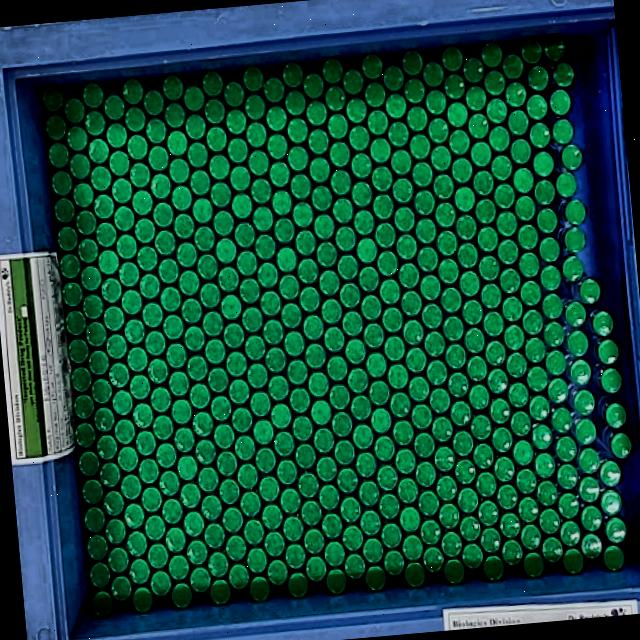vial: (360, 52, 384, 79), (578, 448, 602, 474), (398, 261, 422, 287), (599, 366, 622, 393), (373, 192, 395, 220), (344, 552, 366, 580), (568, 330, 590, 358), (533, 152, 556, 178), (580, 533, 603, 559), (611, 432, 634, 458), (575, 418, 598, 444), (196, 252, 218, 279), (580, 506, 602, 533), (350, 394, 372, 421), (389, 391, 411, 418), (592, 309, 614, 336), (44, 116, 68, 140), (564, 228, 588, 252), (479, 283, 502, 308), (270, 403, 293, 428), (328, 384, 351, 409), (308, 128, 330, 154), (383, 64, 405, 90), (526, 95, 548, 121), (433, 172, 455, 198), (64, 310, 86, 336), (128, 374, 150, 400), (286, 572, 308, 598), (522, 552, 544, 578), (578, 476, 600, 502), (557, 492, 579, 518), (534, 452, 556, 478), (606, 402, 628, 428), (532, 424, 554, 450), (528, 396, 550, 422), (330, 412, 352, 438), (484, 340, 506, 366), (228, 136, 249, 163), (351, 153, 372, 180), (482, 554, 503, 581), (516, 468, 537, 495), (552, 406, 573, 433), (314, 428, 334, 456), (459, 516, 482, 540), (605, 518, 628, 542), (572, 391, 596, 414), (294, 230, 316, 255), (530, 123, 552, 148), (552, 118, 574, 143), (186, 355, 208, 380), (158, 471, 180, 496), (603, 546, 625, 571), (264, 346, 286, 371), (544, 350, 566, 375), (333, 198, 354, 224), (408, 132, 429, 158), (459, 270, 480, 296), (202, 310, 223, 336), (276, 459, 297, 485), (382, 550, 403, 576), (358, 480, 379, 506), (495, 457, 516, 483), (539, 508, 560, 534), (563, 548, 584, 574), (555, 436, 576, 462), (452, 430, 473, 456), (356, 452, 377, 478), (357, 236, 378, 262), (357, 266, 378, 292), (366, 352, 387, 378), (506, 352, 527, 378), (352, 180, 372, 207), (330, 140, 350, 167), (504, 323, 524, 350), (122, 80, 144, 104), (168, 158, 190, 182), (266, 106, 288, 130), (554, 62, 576, 86), (538, 238, 560, 262), (518, 253, 540, 277), (144, 515, 166, 539), (83, 508, 105, 532), (601, 490, 623, 514), (600, 462, 622, 486), (302, 316, 324, 340), (304, 343, 326, 367), (405, 348, 427, 372), (569, 360, 591, 384), (597, 339, 619, 363), (263, 77, 284, 102), (323, 58, 344, 83), (190, 170, 211, 195), (288, 146, 309, 171), (528, 66, 549, 91), (534, 179, 555, 204), (540, 265, 561, 290), (150, 386, 171, 411), (189, 383, 210, 408), (497, 485, 518, 510), (491, 427, 512, 452), (510, 411, 531, 436), (296, 443, 317, 468), (287, 359, 308, 384), (348, 367, 369, 392), (382, 307, 403, 332), (402, 291, 423, 316), (162, 76, 182, 102), (68, 126, 88, 152), (310, 157, 330, 183), (513, 168, 533, 194), (550, 88, 570, 114), (179, 271, 199, 297), (184, 326, 204, 352), (166, 342, 186, 368), (68, 338, 88, 364), (250, 390, 270, 416), (78, 450, 98, 476), (103, 490, 123, 516), (87, 534, 107, 560), (211, 581, 231, 607), (264, 532, 284, 558), (479, 500, 499, 526), (476, 472, 496, 498), (502, 540, 522, 566), (558, 464, 578, 490), (282, 302, 302, 328), (334, 439, 354, 465), (326, 356, 346, 382), (384, 335, 404, 361), (544, 37, 566, 60), (185, 540, 208, 562), (520, 525, 542, 548), (207, 126, 228, 150), (69, 154, 90, 178), (111, 178, 132, 202), (73, 182, 94, 206), (210, 182, 231, 206), (248, 150, 269, 174), (311, 186, 332, 210), (287, 118, 308, 142), (372, 166, 393, 190), (292, 202, 313, 226), (371, 137, 392, 161), (402, 51, 423, 75), (472, 170, 493, 194), (561, 146, 582, 170), (537, 208, 558, 232), (477, 227, 498, 251), (53, 198, 74, 222), (138, 276, 159, 300), (223, 323, 244, 347), (244, 336, 265, 360), (146, 330, 164, 358), (258, 476, 279, 500), (374, 438, 395, 462), (402, 320, 423, 344), (388, 364, 409, 388), (51, 170, 71, 195), (330, 169, 350, 194), (232, 193, 252, 218), (508, 110, 528, 135), (463, 57, 483, 82), (485, 69, 505, 94), (426, 89, 446, 114), (468, 113, 488, 138), (510, 138, 530, 163), (452, 157, 472, 182), (456, 215, 476, 240), (226, 352, 246, 377), (88, 350, 108, 375), (81, 479, 101, 504), (299, 472, 319, 497), (228, 564, 248, 589), (326, 570, 346, 595), (444, 558, 464, 583), (458, 487, 478, 512), (481, 528, 501, 553), (519, 497, 539, 522), (542, 537, 562, 562), (538, 481, 558, 506), (514, 440, 534, 465), (474, 443, 494, 468), (434, 445, 454, 470), (489, 398, 509, 423), (508, 382, 528, 407), (413, 432, 433, 457), (394, 448, 414, 473), (274, 432, 294, 457), (346, 338, 366, 363), (371, 407, 391, 432), (466, 356, 486, 381), (527, 366, 547, 391), (566, 302, 586, 327), (336, 226, 355, 252), (515, 196, 534, 222), (462, 544, 481, 570), (378, 250, 397, 276), (309, 372, 328, 398), (443, 314, 462, 340), (562, 258, 584, 280), (204, 340, 226, 362), (205, 99, 226, 122), (134, 219, 155, 242), (346, 98, 367, 121), (464, 86, 485, 109), (428, 119, 449, 142), (475, 199, 496, 222), (239, 279, 260, 302), (548, 379, 569, 402), (64, 98, 84, 122), (244, 68, 264, 92), (344, 70, 364, 94), (146, 118, 166, 142), (210, 154, 230, 178), (165, 103, 185, 127), (186, 114, 206, 138), (226, 110, 246, 134), (148, 146, 168, 170), (48, 143, 68, 167), (132, 189, 152, 213), (174, 214, 194, 238), (192, 198, 212, 222), (290, 174, 310, 198), (354, 210, 374, 234), (251, 178, 271, 202), (314, 214, 334, 238), (274, 218, 294, 242), (324, 86, 344, 110), (350, 126, 370, 150), (368, 110, 388, 134), (388, 121, 408, 145), (442, 47, 462, 71), (506, 82, 526, 106), (482, 42, 502, 66), (502, 55, 522, 79), (522, 40, 542, 64), (406, 106, 426, 130), (470, 141, 490, 165), (432, 146, 452, 170), (412, 162, 432, 186), (396, 235, 416, 259), (176, 242, 196, 266), (216, 238, 236, 262), (234, 222, 254, 246), (60, 254, 80, 278), (80, 266, 100, 290), (60, 282, 80, 306), (142, 302, 162, 326), (200, 282, 220, 306), (221, 295, 241, 319), (86, 322, 106, 346), (124, 318, 144, 342), (126, 347, 146, 371), (172, 399, 192, 423), (208, 368, 228, 392), (192, 412, 212, 436), (228, 380, 248, 404), (232, 408, 252, 432), (215, 424, 235, 448), (70, 368, 90, 392), (100, 462, 120, 486), (121, 474, 141, 498), (142, 487, 162, 511), (147, 543, 167, 567), (130, 558, 150, 582), (92, 592, 112, 616), (132, 588, 152, 612), (162, 498, 182, 522), (280, 489, 300, 513), (302, 500, 322, 524), (284, 516, 304, 540), (222, 508, 242, 532), (244, 521, 264, 545), (256, 448, 276, 472), (340, 498, 360, 522), (381, 522, 401, 546), (226, 536, 246, 560), (250, 577, 270, 601), (268, 560, 288, 584), (286, 544, 306, 568), (306, 557, 326, 581), (324, 542, 344, 566), (402, 536, 422, 560), (423, 547, 443, 571), (436, 476, 456, 500), (500, 512, 520, 536), (560, 520, 580, 544), (456, 461, 476, 485), (487, 368, 507, 392), (268, 376, 288, 400), (254, 419, 274, 443), (292, 416, 312, 440), (317, 456, 337, 480), (311, 400, 331, 424), (290, 388, 310, 412), (369, 380, 389, 404), (424, 332, 444, 356), (521, 280, 541, 304), (544, 322, 564, 346), (578, 278, 598, 302), (88, 138, 107, 163), (109, 150, 128, 175), (436, 202, 455, 227), (181, 483, 200, 508), (398, 477, 417, 502), (469, 385, 488, 410), (409, 376, 428, 401), (172, 582, 190, 608), (446, 343, 464, 369), (41, 88, 62, 110), (187, 144, 208, 166), (565, 202, 586, 224), (95, 223, 116, 245), (379, 280, 400, 302), (83, 83, 103, 106), (145, 90, 165, 113), (282, 63, 302, 86), (303, 74, 323, 97), (126, 108, 146, 131), (244, 96, 264, 119), (150, 174, 170, 197), (155, 231, 175, 254), (153, 204, 173, 227), (172, 186, 192, 209), (194, 227, 214, 250), (230, 167, 250, 190), (328, 114, 348, 137), (386, 94, 406, 117), (423, 62, 443, 85), (454, 187, 474, 210), (494, 185, 514, 208), (418, 247, 438, 270), (502, 297, 522, 320), (116, 235, 136, 258), (169, 372, 189, 395), (118, 447, 138, 470), (150, 572, 170, 595), (110, 576, 130, 599), (184, 512, 204, 535), (342, 525, 362, 548), (416, 463, 436, 486), (430, 389, 450, 412), (255, 235, 275, 258), (276, 247, 296, 270), (364, 324, 384, 347), (522, 311, 542, 334), (104, 96, 123, 120), (184, 86, 203, 110), (128, 136, 147, 160), (285, 90, 304, 114), (447, 102, 466, 126), (489, 126, 508, 150), (450, 129, 469, 153), (492, 156, 511, 180), (456, 242, 475, 266), (438, 258, 457, 282), (57, 227, 76, 251), (238, 251, 257, 275), (163, 314, 182, 338), (242, 308, 261, 332), (107, 334, 126, 358), (109, 363, 128, 387), (112, 390, 131, 414), (75, 423, 94, 447), (109, 547, 128, 571), (217, 451, 236, 475), (238, 464, 257, 488), (235, 436, 254, 460), (320, 485, 339, 509), (399, 508, 418, 532), (471, 414, 490, 438), (316, 242, 335, 266), (300, 288, 319, 312), (449, 373, 468, 397), (465, 328, 484, 352), (484, 312, 503, 336), (248, 362, 266, 387), (366, 566, 384, 591), (432, 416, 450, 441), (451, 401, 469, 426), (84, 110, 104, 132), (106, 124, 126, 146), (166, 132, 186, 154), (270, 163, 290, 185), (364, 83, 384, 105), (444, 76, 464, 98), (414, 191, 434, 213), (394, 208, 414, 230), (518, 226, 538, 248), (500, 270, 520, 292), (157, 260, 177, 282), (100, 278, 120, 300), (92, 380, 112, 402), (132, 404, 152, 426), (174, 428, 194, 450), (72, 396, 92, 418), (90, 564, 110, 586), (198, 468, 218, 490), (304, 530, 324, 552), (247, 549, 267, 571), (405, 564, 425, 586), (442, 532, 462, 554), (412, 406, 432, 428), (337, 256, 357, 278), (340, 284, 360, 306), (284, 332, 304, 354), (540, 296, 560, 318), (203, 72, 222, 95), (224, 82, 243, 105), (114, 207, 133, 230), (253, 207, 272, 230), (406, 79, 425, 102), (392, 150, 411, 173), (83, 295, 102, 318), (148, 359, 167, 382), (211, 396, 230, 419), (178, 455, 197, 478), (363, 540, 382, 563), (378, 466, 397, 489), (298, 259, 317, 282), (361, 296, 380, 319), (263, 319, 282, 342), (376, 224, 394, 248), (272, 190, 290, 214), (488, 98, 506, 122), (498, 212, 516, 236), (76, 210, 94, 234), (120, 261, 138, 285), (104, 306, 122, 330), (182, 298, 200, 322), (220, 266, 238, 290), (128, 532, 146, 556), (361, 510, 379, 534), (420, 492, 438, 516), (320, 272, 338, 296), (262, 290, 280, 314), (464, 300, 482, 324), (556, 174, 576, 195), (439, 505, 459, 526), (258, 264, 278, 285), (342, 312, 362, 333), (247, 124, 266, 146), (130, 163, 149, 185), (94, 195, 113, 217), (307, 102, 326, 124), (392, 178, 411, 200), (416, 219, 435, 241), (77, 239, 96, 261), (161, 288, 180, 310), (95, 408, 114, 430), (115, 420, 134, 442), (157, 444, 176, 466), (196, 440, 215, 462), (125, 504, 144, 526), (202, 496, 221, 518), (204, 524, 223, 546), (379, 496, 398, 518), (419, 276, 438, 298), (441, 288, 460, 310), (92, 167, 110, 190), (214, 211, 232, 234), (268, 134, 286, 157), (438, 231, 456, 254), (138, 246, 156, 269), (122, 290, 140, 313), (136, 431, 154, 454), (139, 458, 157, 481), (106, 519, 124, 542), (169, 556, 187, 579), (190, 568, 208, 591), (324, 513, 342, 536), (263, 504, 281, 527), (421, 520, 439, 543), (428, 359, 446, 382), (526, 338, 544, 361), (337, 470, 357, 490), (479, 259, 498, 280), (98, 252, 117, 273), (498, 240, 516, 262), (98, 436, 116, 458), (166, 528, 184, 550), (220, 480, 238, 502), (240, 492, 258, 514), (394, 421, 412, 443), (280, 275, 298, 297), (354, 426, 372, 448), (423, 304, 441, 326), (152, 416, 170, 437), (324, 329, 342, 350), (322, 299, 338, 322), (208, 554, 226, 574)
